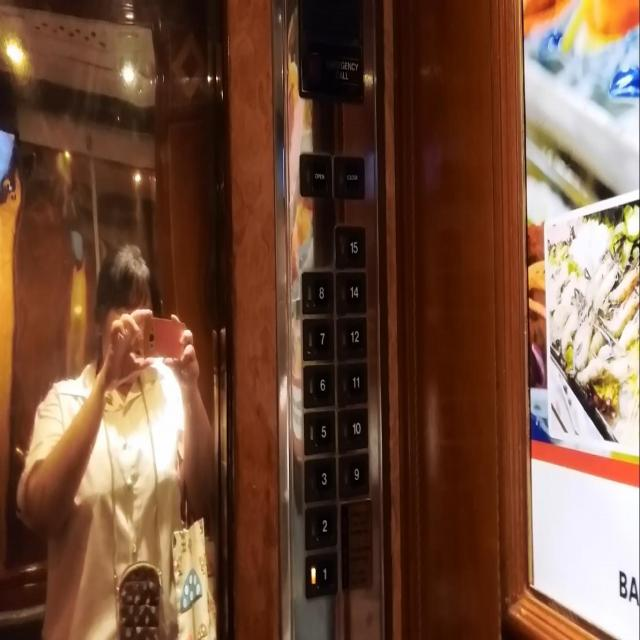1: (303, 551, 337, 598)
10: (336, 405, 369, 453)
11: (335, 358, 368, 406)
12: (334, 313, 367, 361)
14: (333, 268, 367, 316)
15: (333, 222, 367, 270)
2: (303, 502, 337, 550)
3: (303, 454, 337, 502)
5: (302, 408, 336, 456)
6: (302, 362, 335, 409)
7: (301, 315, 335, 363)
8: (301, 268, 334, 316)
9: (336, 451, 370, 498)
text_close door: (334, 152, 366, 198)
text_open door: (298, 152, 333, 198)
